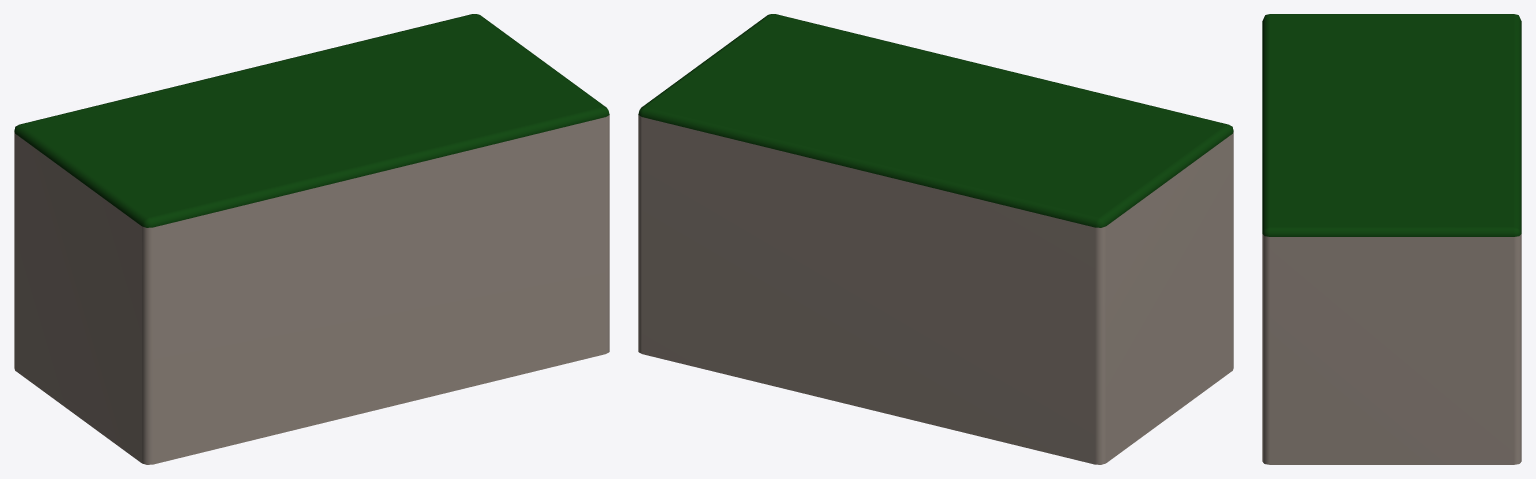
Rendered from Cliff_04_Thin.fbx.
The picture shows the model from 3 angles, left to right: view 1: azimuth 30°, elevation 25°; view 2: azimuth 150°, elevation 25°; view 3: azimuth 270°, elevation 25°; orthographic projection. The views are drawn at different scales.
Visible parts, largest first — view 1: Cliff_04_Thin; view 2: Cliff_04_Thin; view 3: Cliff_04_Thin.
Part boxes in pixels (x1=…): Cliff_04_Thin: x1=14, y1=14, x2=609, y2=464; Cliff_04_Thin: x1=638, y1=14, x2=1233, y2=464; Cliff_04_Thin: x1=1262, y1=14, x2=1521, y2=464.
Size of the model in its own units: 200 by 100 by 100.
